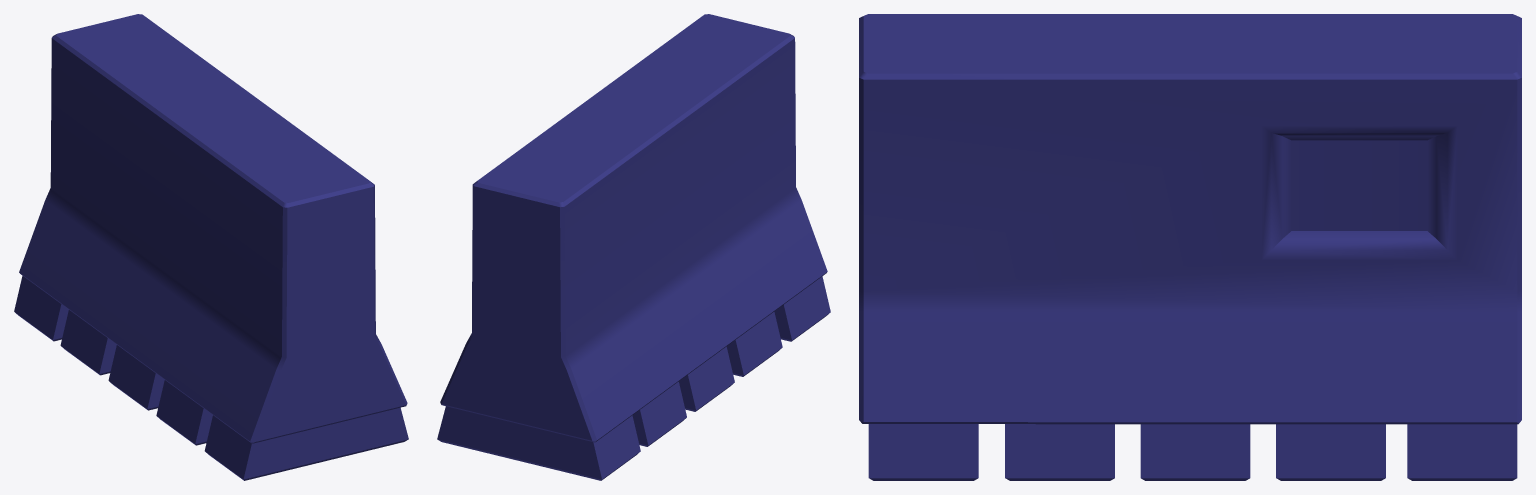
Rendered from barricada2.fbx.
3 renders of one model, left to right at view 1: azimuth 30°, elevation 25°; view 2: azimuth 150°, elevation 25°; view 3: azimuth 270°, elevation 25°, orthographic. The views are drawn at different scales.
Visible parts, largest first — view 1: Barrera2; view 2: Barrera2; view 3: Barrera2.
Boxes of the visible parts, x1,y1,x2,y2 form: Barrera2: [14, 14, 408, 480]; Barrera2: [437, 14, 830, 480]; Barrera2: [859, 14, 1521, 480].
Bounding box in the file's own units: 1.85 × 2.89 × 4.55.
